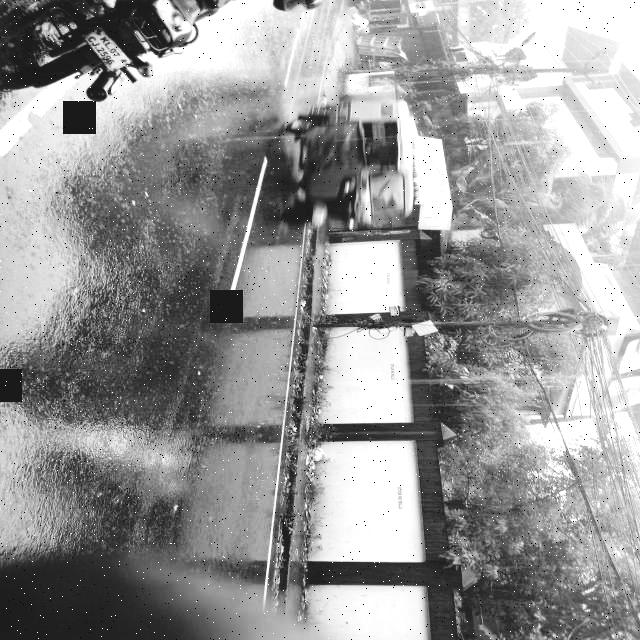Auto-Rickshaw: (269, 99, 417, 232)
